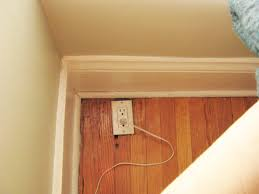outlet: (118, 108, 127, 115)
